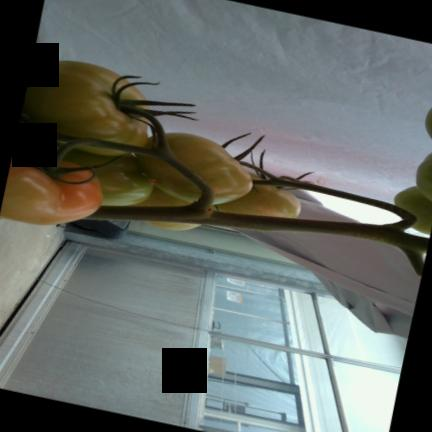6kp_peduncle: (152, 150, 254, 230), (341, 191, 420, 252)
MainStem: (82, 207, 432, 254)
tomato: (23, 61, 147, 155), (0, 143, 102, 225), (137, 133, 252, 204), (63, 149, 152, 206), (216, 174, 300, 218), (134, 187, 199, 230), (394, 186, 432, 234), (416, 153, 432, 202)
